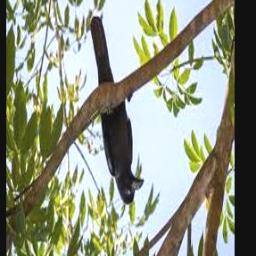Crow: (91, 15, 143, 205)
